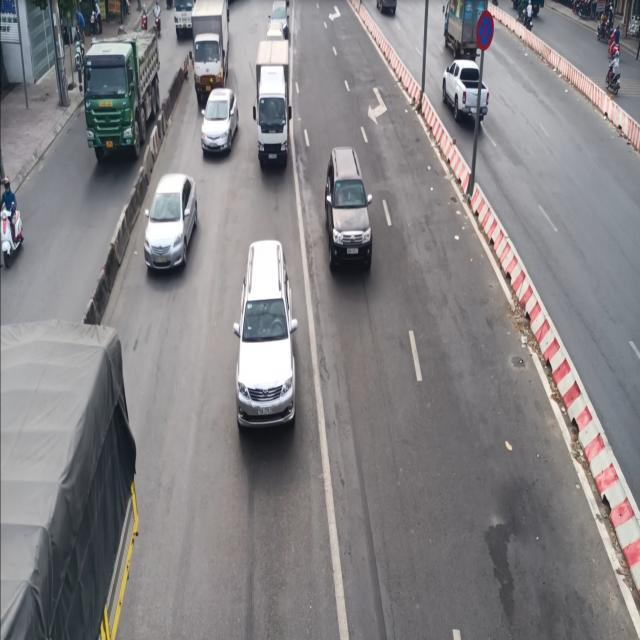car: (232, 239, 298, 430), (323, 146, 373, 272), (142, 172, 197, 273), (441, 58, 489, 122)
truck: (1, 311, 168, 640), (80, 27, 162, 162)
